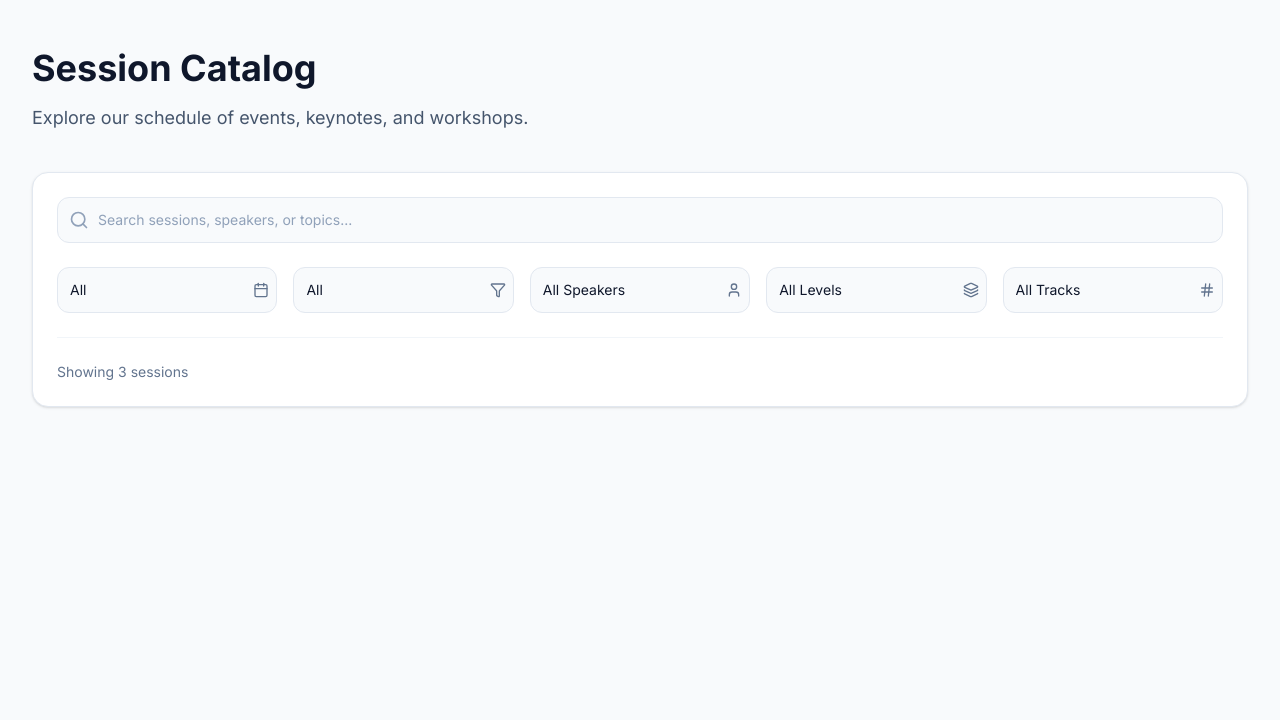
Test: Catalog Page › shows no results message when no matches
The width and height of the screenshot is (1280, 720).
Type "NonExistentTerm" into the field with placeholder "Search sessions, speakers, or topics...".
click(640, 220); type("NonExistentTerm")  # box left=57, top=197, right=1223, bottom=243
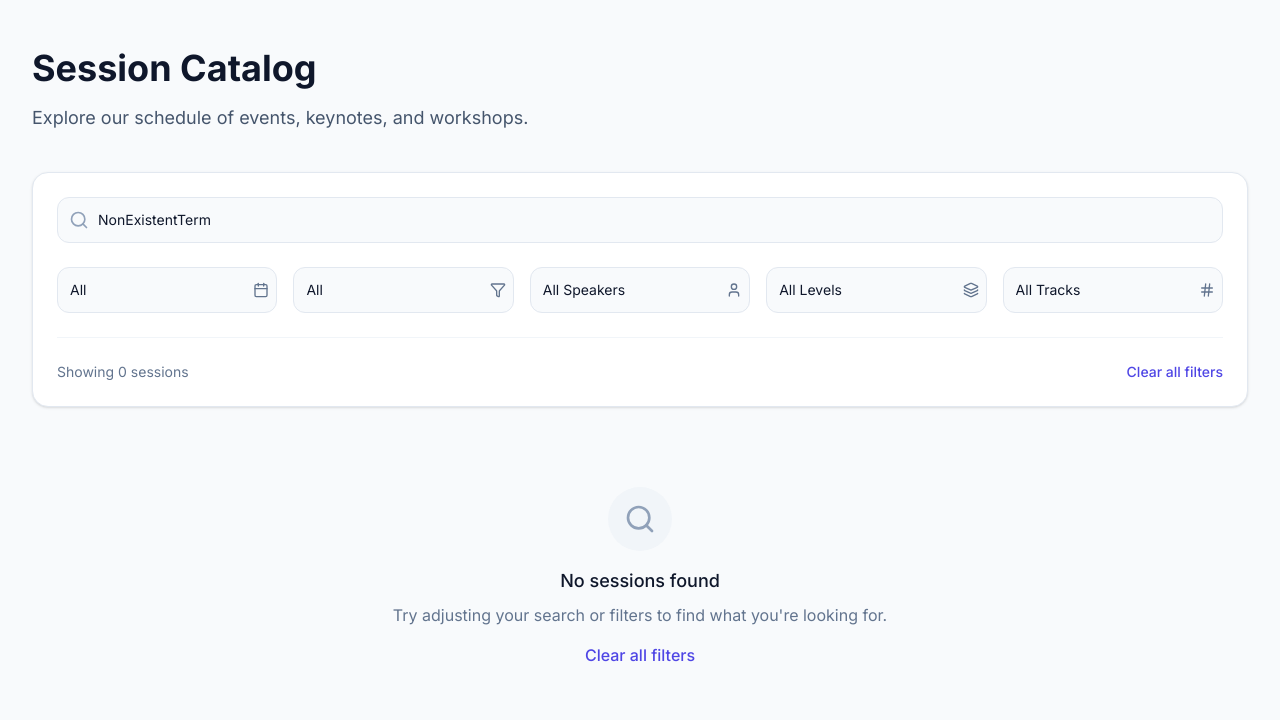
Now the heading "No sessions found" is shown, box left=560, top=570, right=720, bottom=591
Now the text "Showing 0 sessions" is shown, box left=57, top=362, right=189, bottom=382
